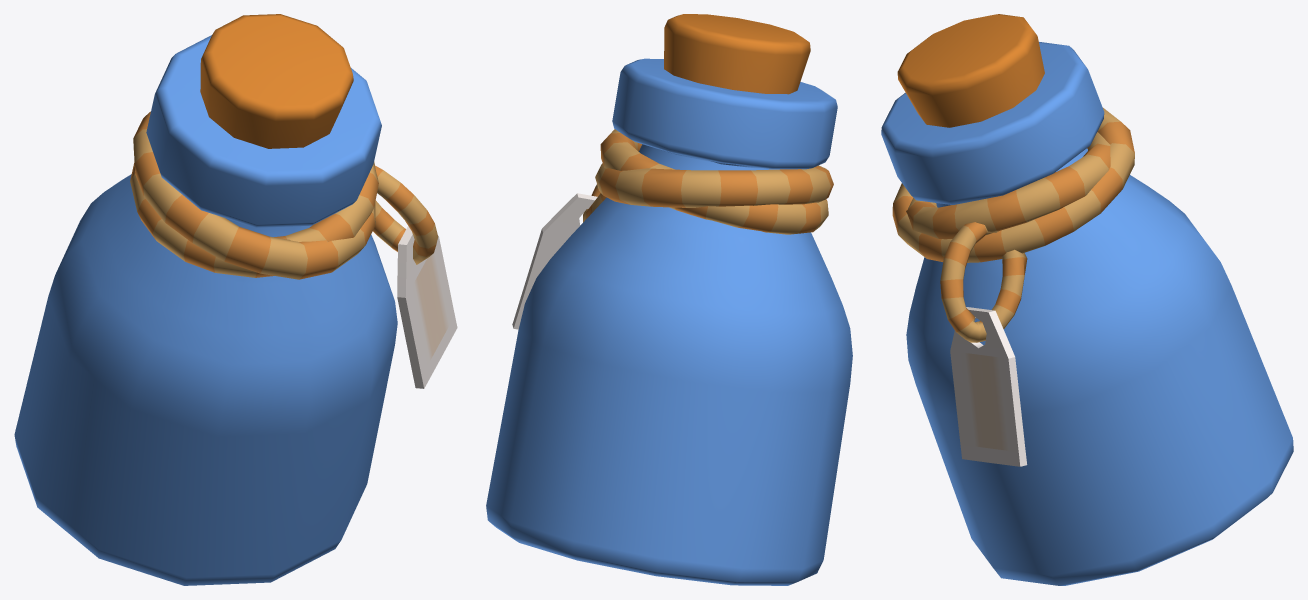
3 renders of one model, left to right at view 1: azimuth 30°, elevation 25°; view 2: azimuth 150°, elevation 25°; view 3: azimuth 270°, elevation 25°, orthographic. The views are drawn at different scales.
Parts seen in each view (by area): view 1: model_1.117; view 2: model_1.117; view 3: model_1.117.
Part boxes in pixels (x1,y1,x2,y2): model_1.117: (14,14,457,585); model_1.117: (486,14,852,585); model_1.117: (881,14,1293,585).
Size of the model in its own units: 2.94 by 4.26 by 3.05.
